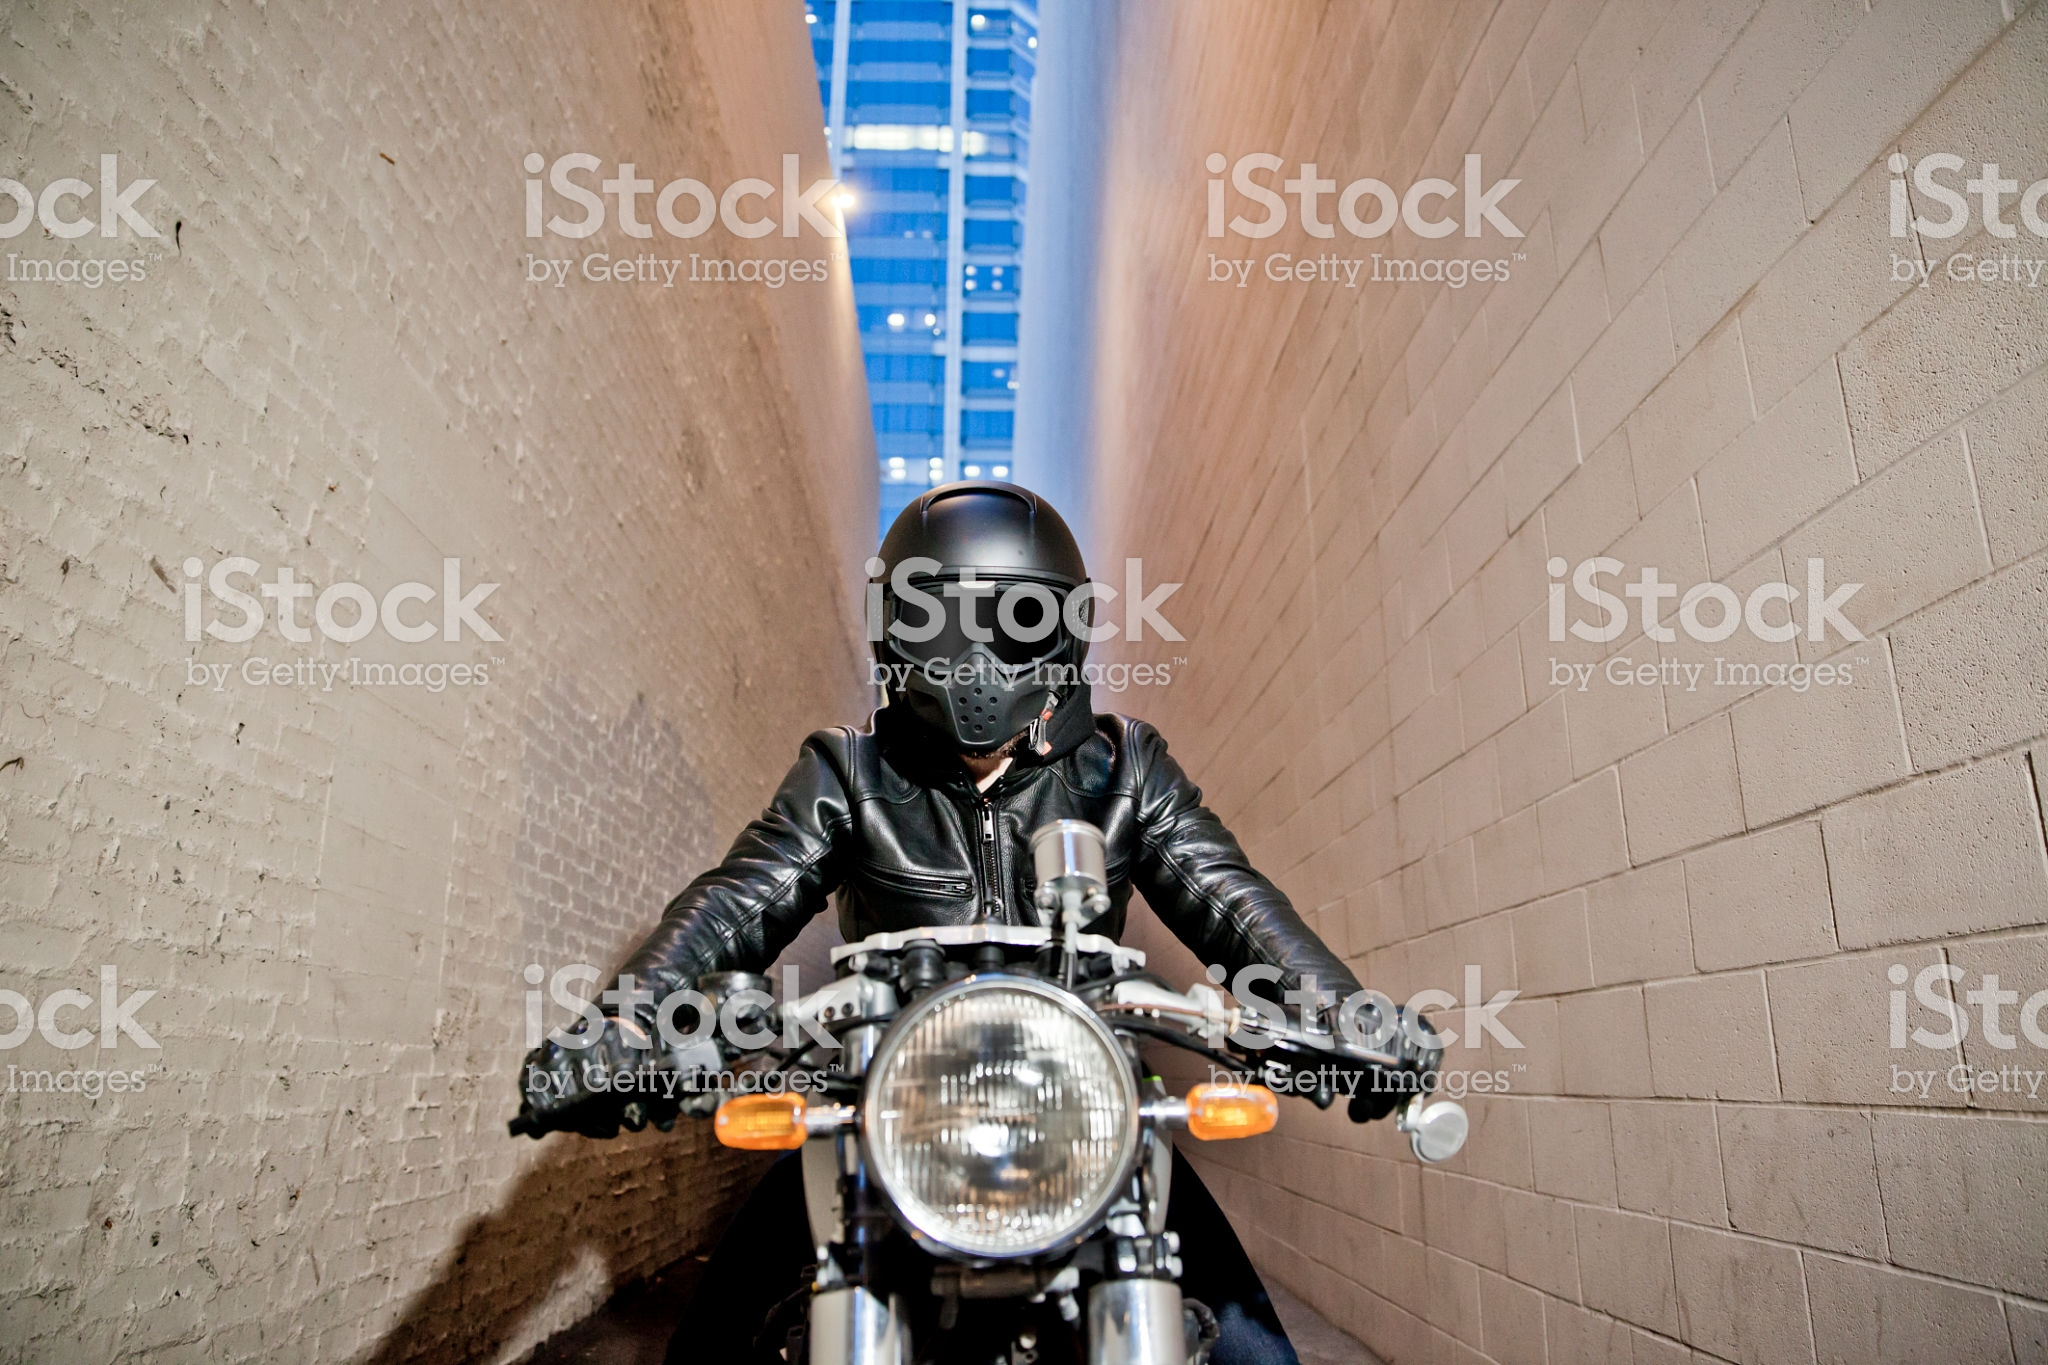helmet: (863, 471, 1090, 748)
